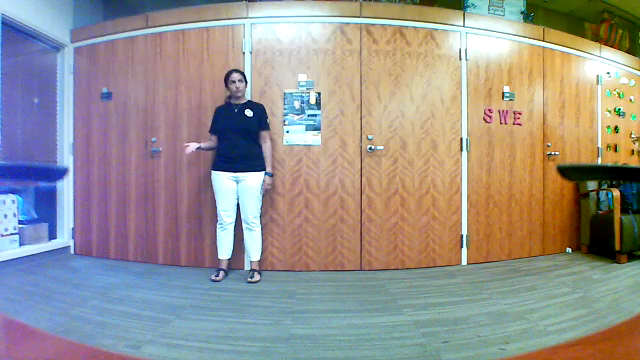land: (181, 139, 203, 158)
